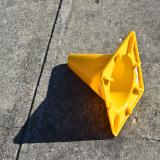cone: (67, 31, 144, 137)
